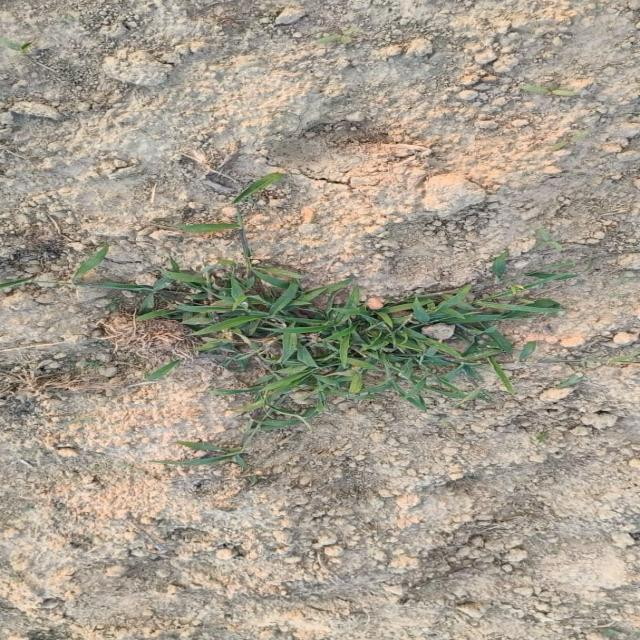weed: (58, 172, 573, 469), (88, 214, 570, 469)
